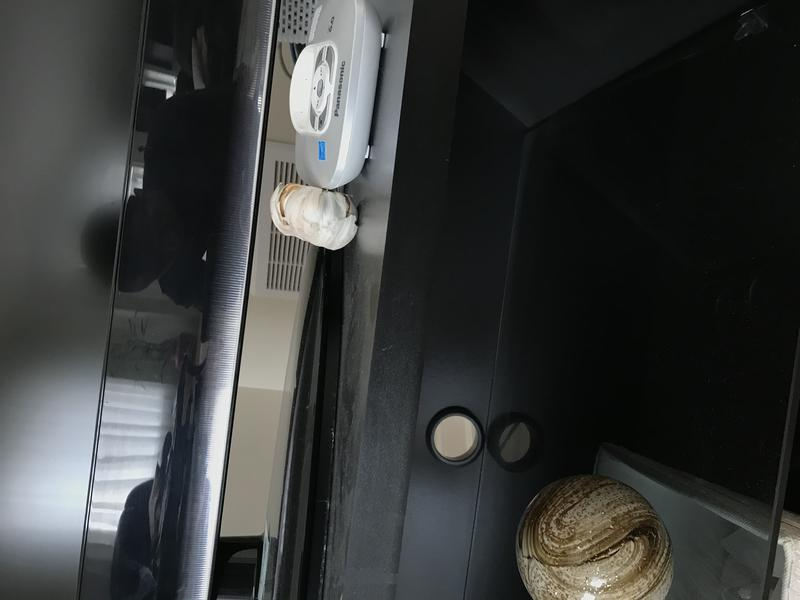garlic: (266, 177, 372, 260)
